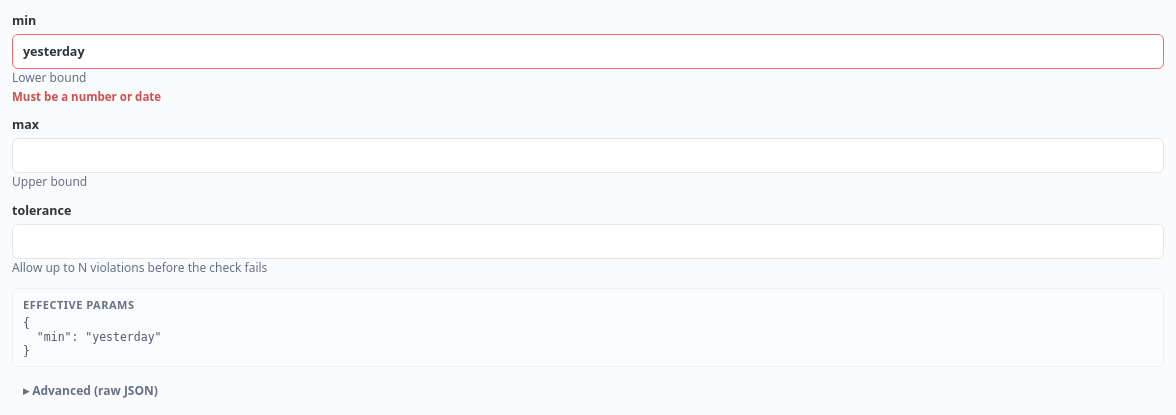
Test: inline error rendering › clears the error once the value becomes valid
Check: the message "Must be a number or date" is shown, box [12,89,161,104]
Replace the text in the field labelled "min Lower bound Must be a number or date" with "10" at (588, 52), box [12,34,1164,69]
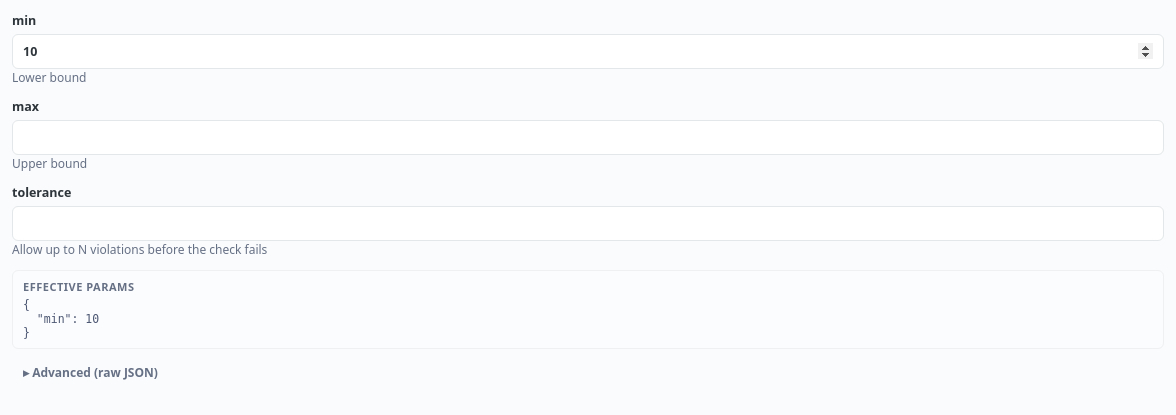
Check: the message "Must be a number or date" is gone
